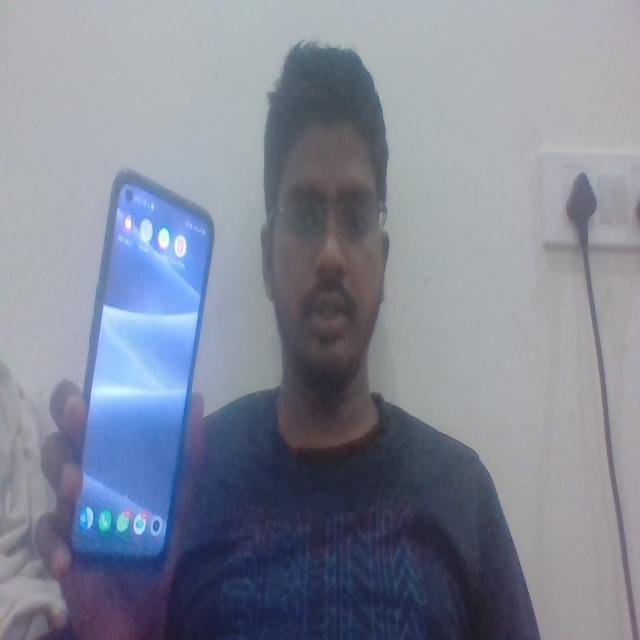Phone: (64, 167, 220, 576)
